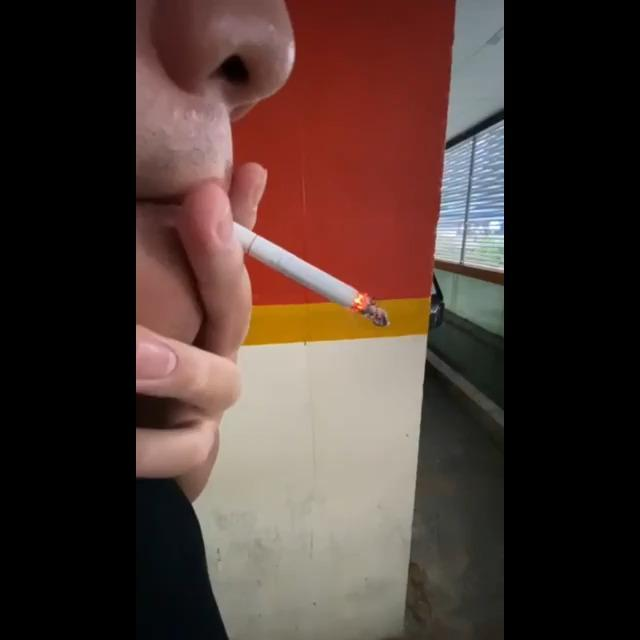rokok: (203, 200, 389, 332)
